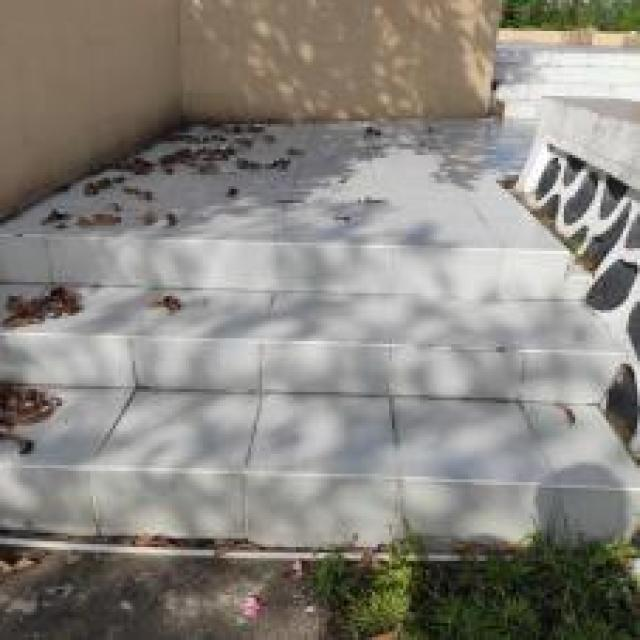upstair: (1, 230, 633, 572)
